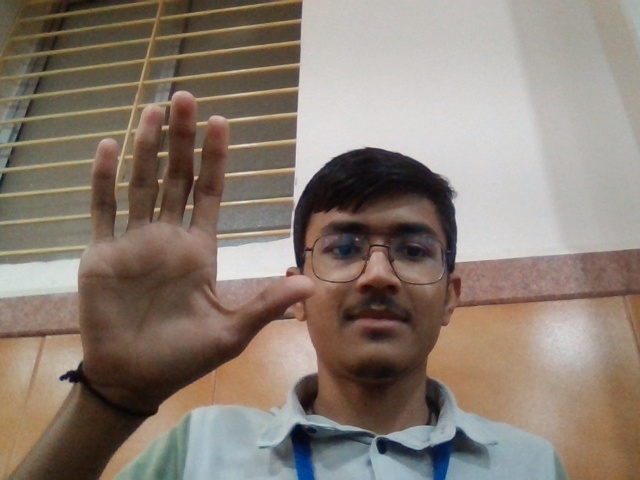Hello: (63, 87, 320, 370)
